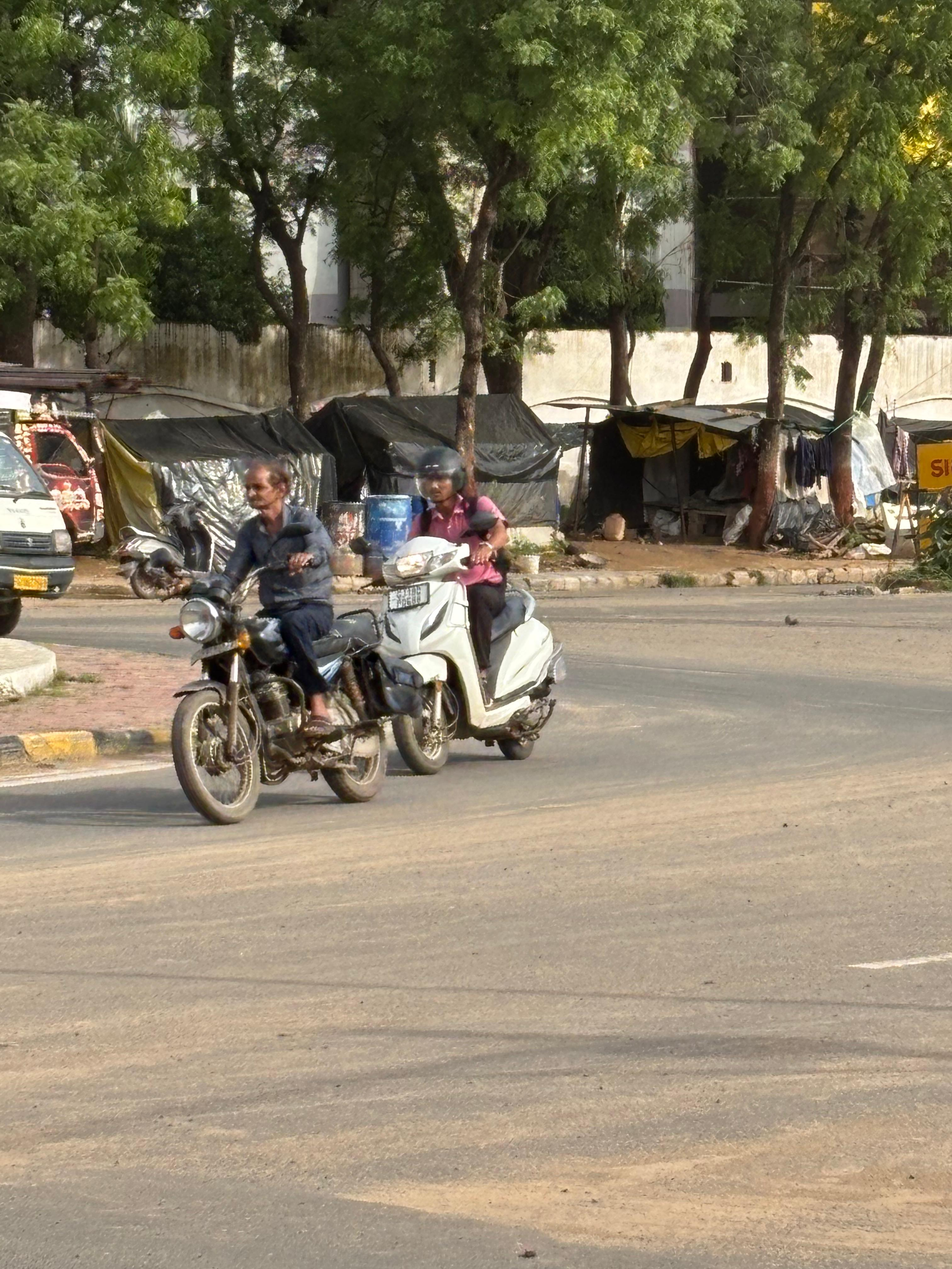BikeWithRider: (144, 451, 422, 831), (343, 446, 615, 785)
Helmet: (406, 440, 483, 515)
NoHelmet: (227, 449, 298, 526)
